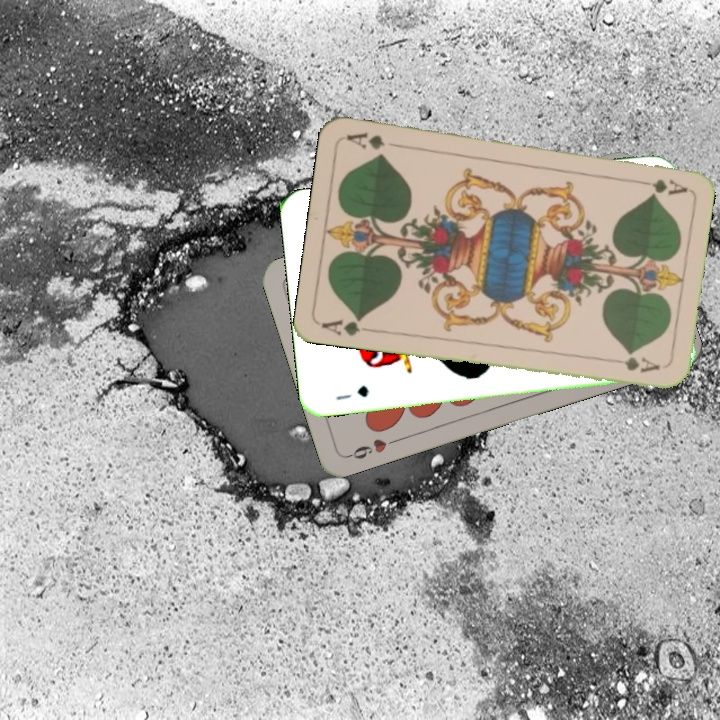GA: (318, 313, 377, 339), (630, 174, 689, 196)
GU: (332, 381, 371, 403)
H9: (344, 434, 401, 462)
